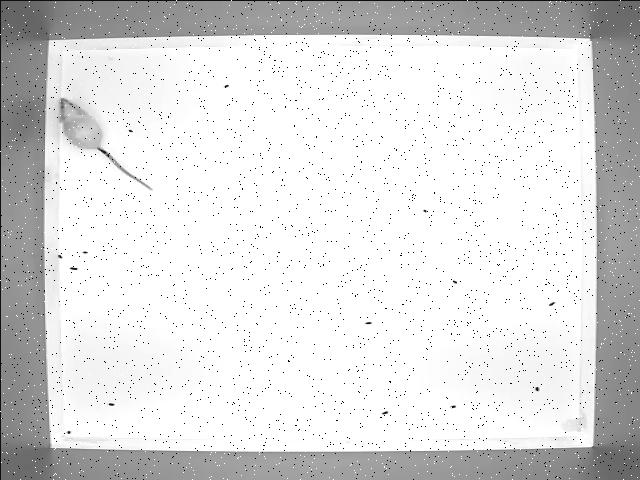Tikus: (54, 94, 158, 196)
